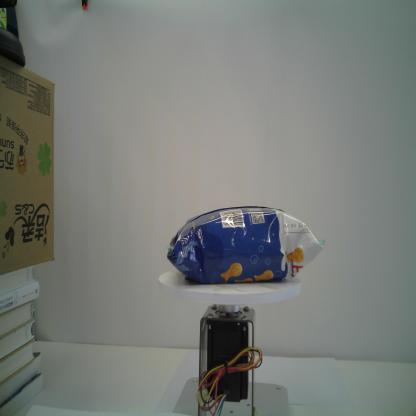Puffed Food: (164, 204, 327, 284)
